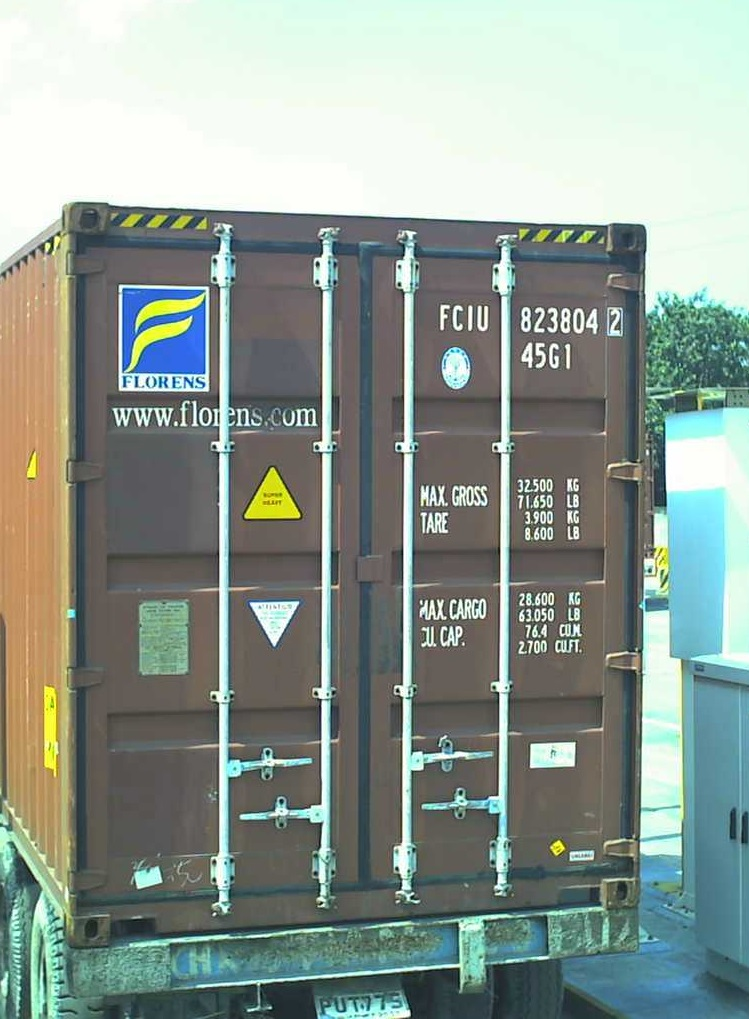container_door: (67, 201, 648, 948)
